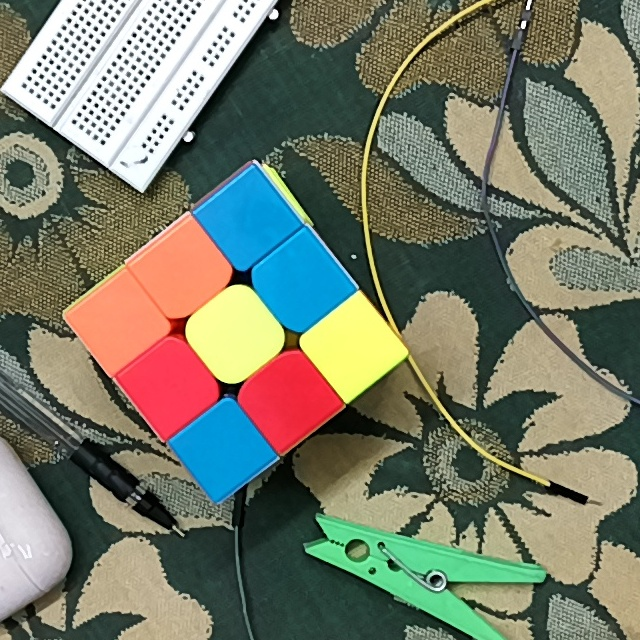tile: (142, 358, 198, 413), (261, 371, 318, 425), (206, 310, 263, 362), (272, 260, 327, 313), (87, 299, 145, 349), (324, 323, 380, 374), (217, 196, 274, 245), (153, 248, 208, 298), (195, 423, 246, 476)
